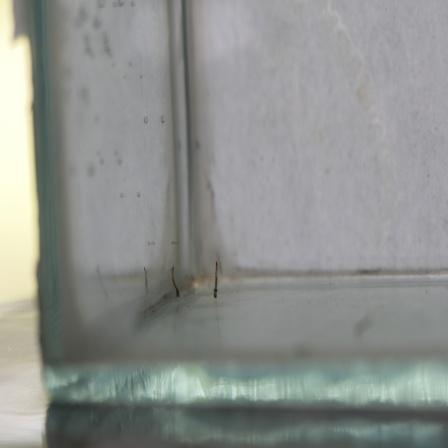Jentik-Nyamuk: (164, 263, 184, 303), (209, 258, 223, 302)
